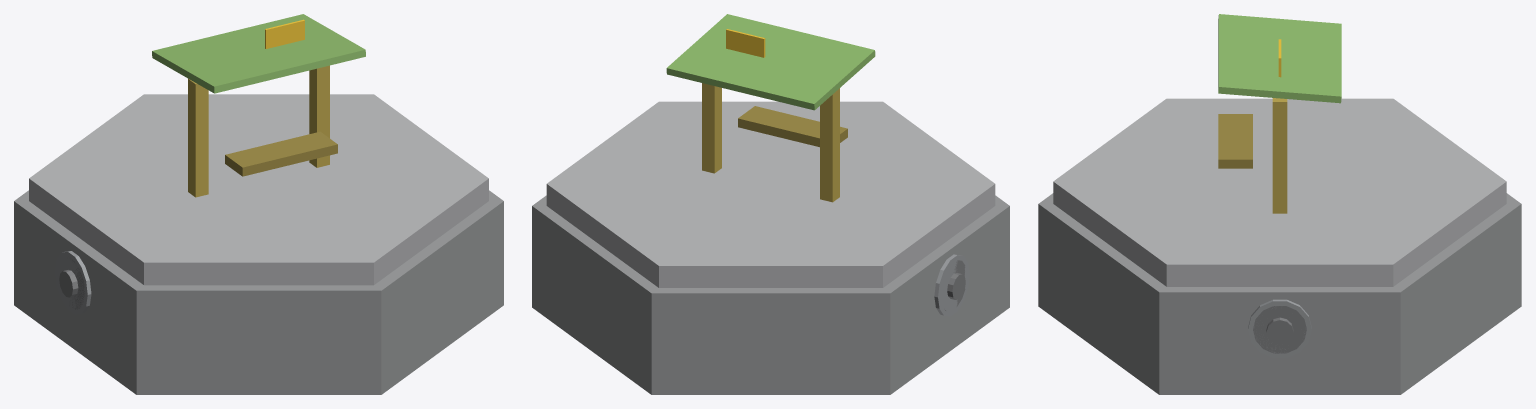
The model's file is trading_post_s1_100.glb.
3 renders of one model, left to right at view 1: azimuth 30°, elevation 25°; view 2: azimuth 150°, elevation 25°; view 3: azimuth 270°, elevation 25°, orthographic. The views are drawn at different scales.
Visible parts, largest first — view 1: TP_Base; view 2: TP_Base; view 3: TP_Base.
Part boxes in pixels (<box>): TP_Base: <box>14,14,503,394</box>; TP_Base: <box>532,14,1009,394</box>; TP_Base: <box>1038,14,1521,394</box>.
Bounding box in the file's own units: 1.78 × 1.21 × 1.96.
